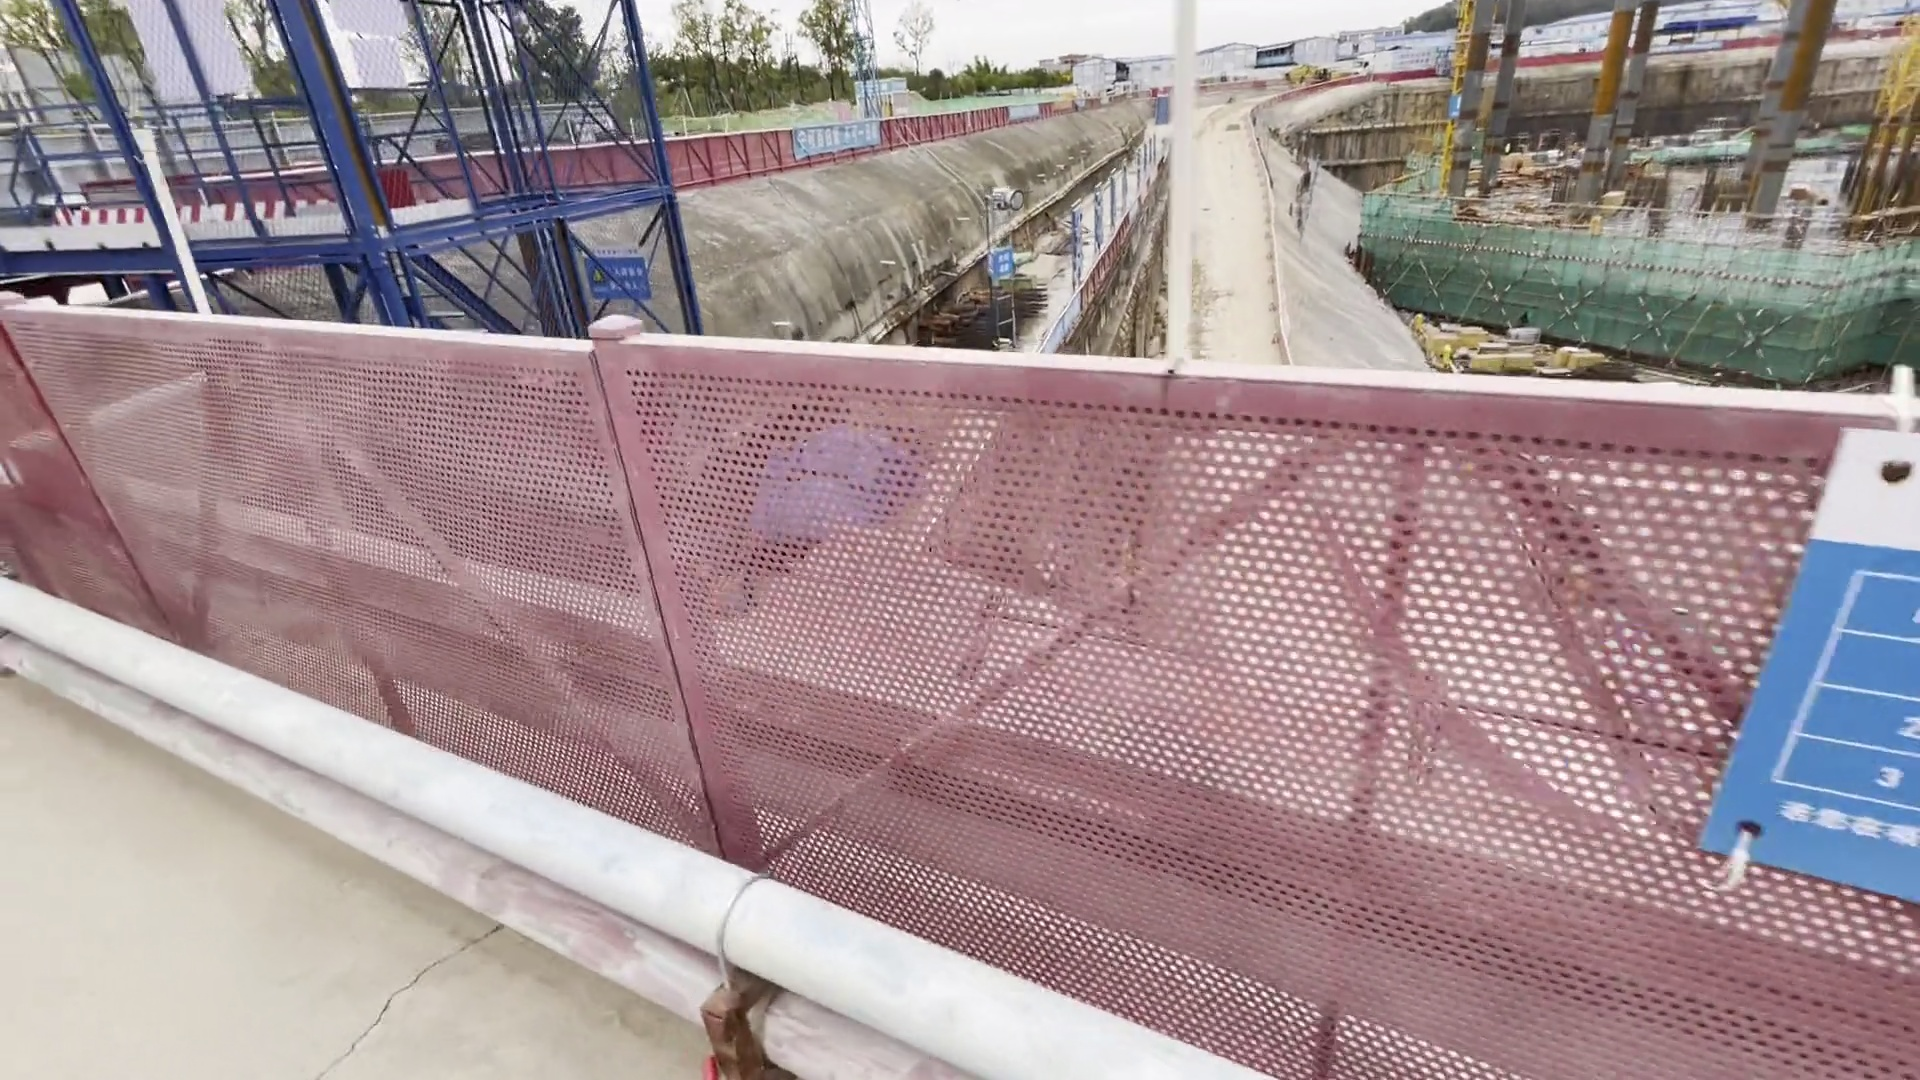fence: (1, 295, 1891, 1065), (585, 100, 1018, 193)
slogan: (1727, 423, 1920, 895), (578, 229, 670, 316), (775, 115, 897, 164), (847, 74, 913, 105)
